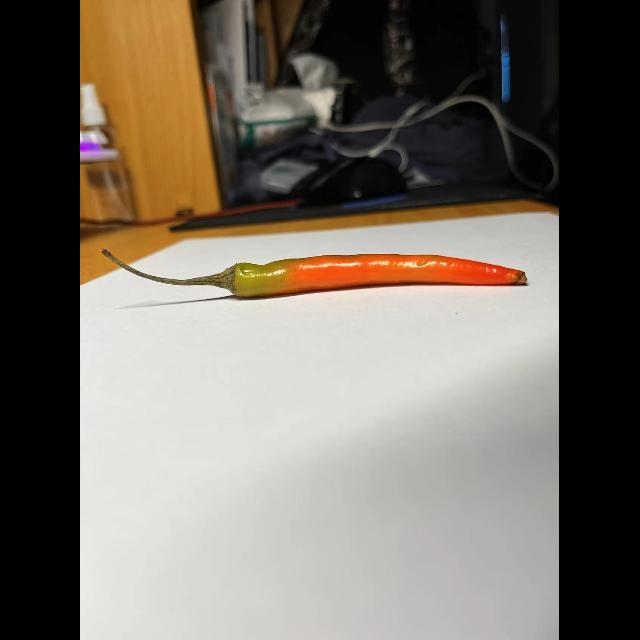chili_pepper: (100, 238, 536, 300)
